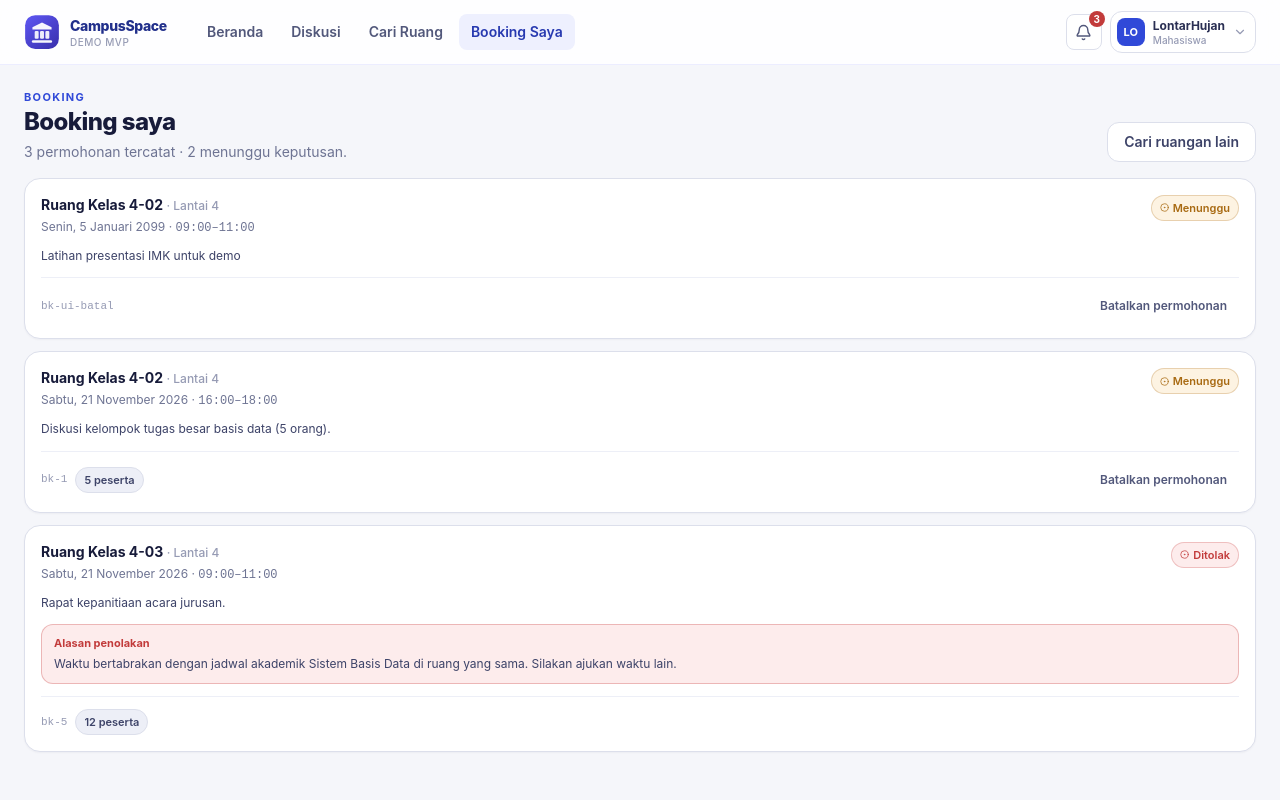
pembatalan dari UI Booking saya › mahasiswa dapat membatalkan permohonan miliknya dan status berubah
expect the list item "Latihan presentasi IMK untuk demo" is shown: met, box [41,248,241,262]
What coordinates should you click on to do the following:
click the button "Batalkan permohonan" in the row of "bk-ui-batal"
I would click on:
 (1164, 306)
Its box is [1088,290,1239,322].
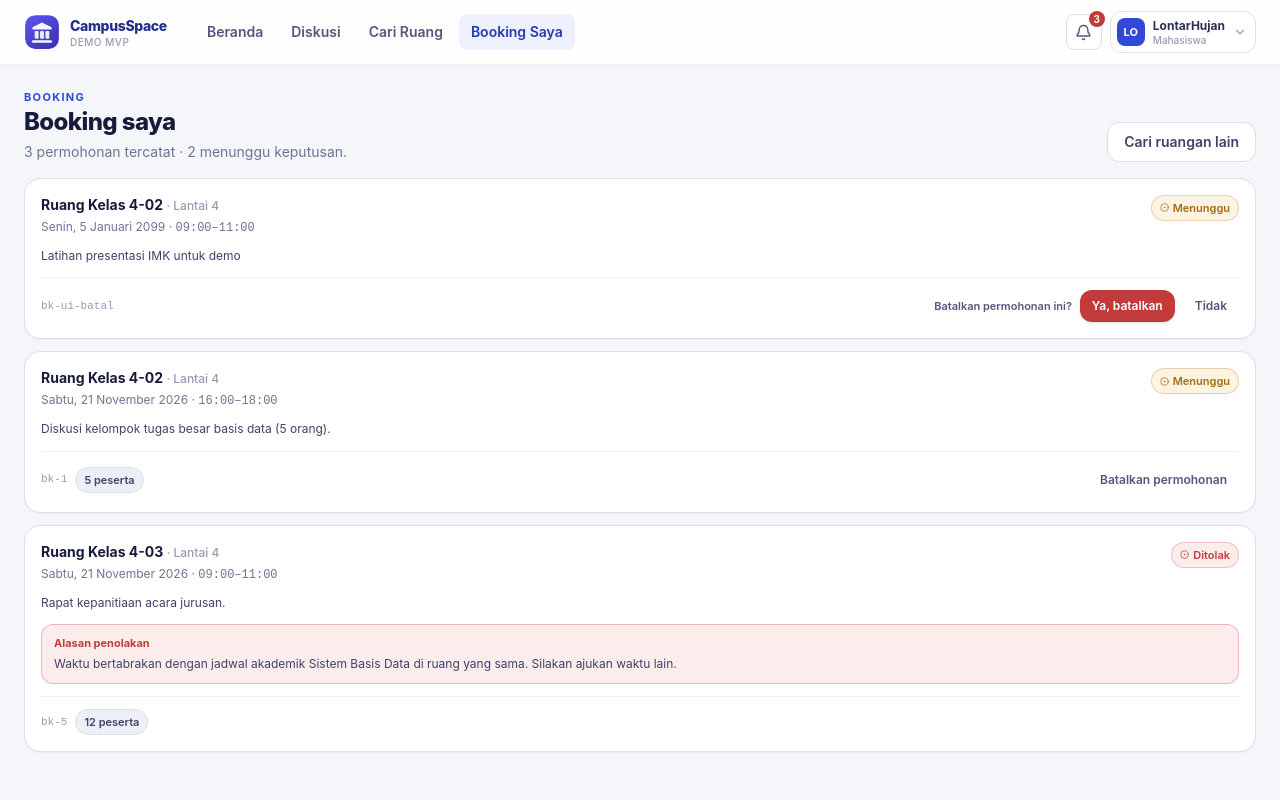
What coordinates should you click on to do the following:
click the button "Ya, batalkan"
I would click on:
 (1127, 306)
Its box is [1080,290,1175,322].
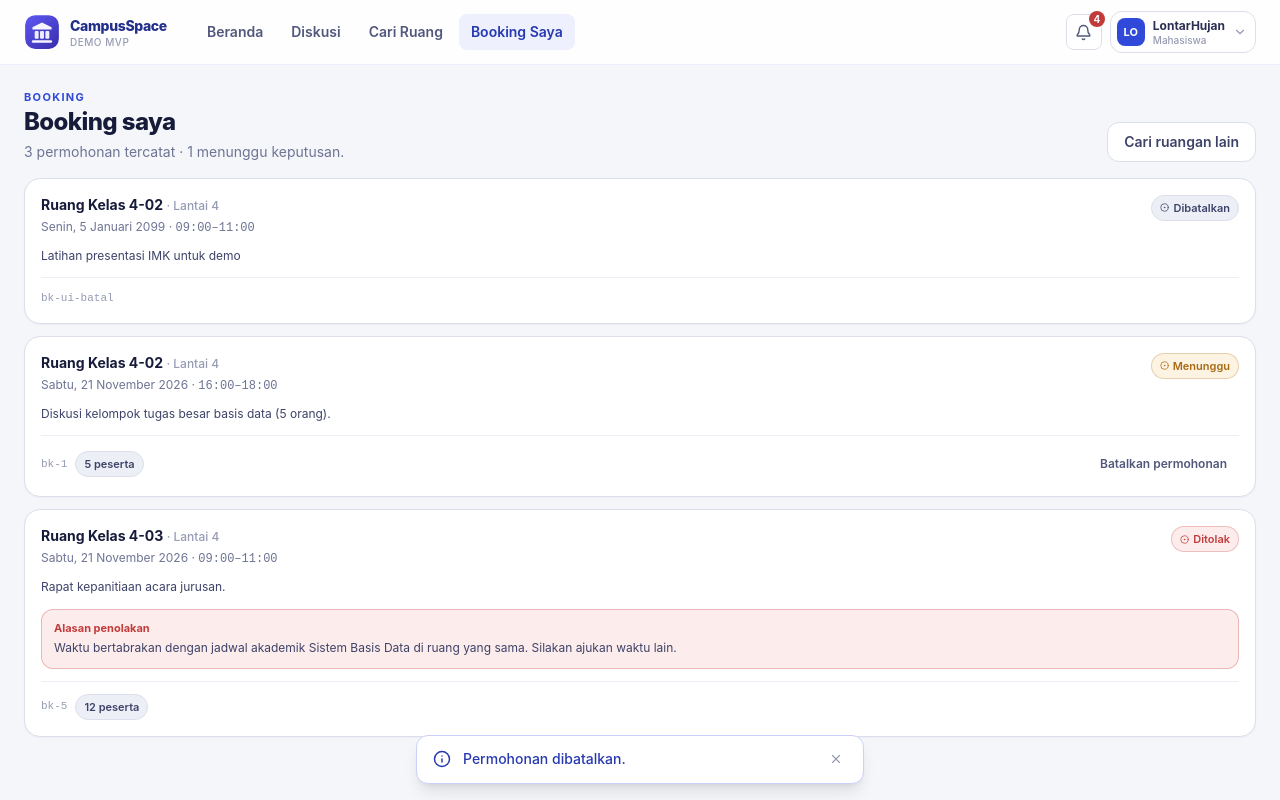
expect the element with test id "toast" shows "dibatalkan": met, box [463,750,626,767]
expect the text "Dibatalkan" is shown: met, box [1151,194,1239,220]
